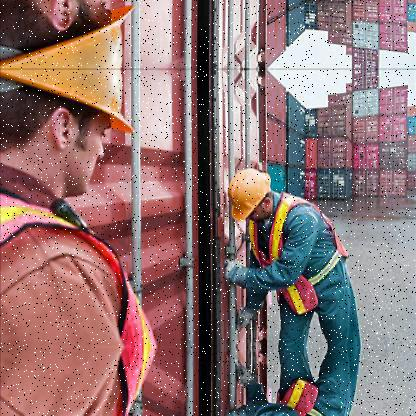Helmet: (0, 64, 137, 211), (0, 0, 140, 69), (210, 159, 282, 234)
